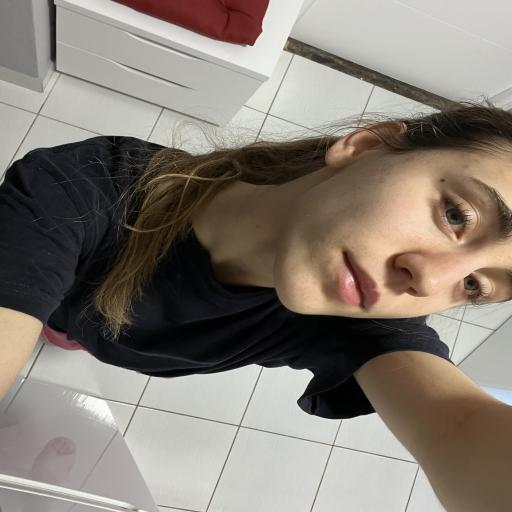masa: (274, 139, 512, 317)
